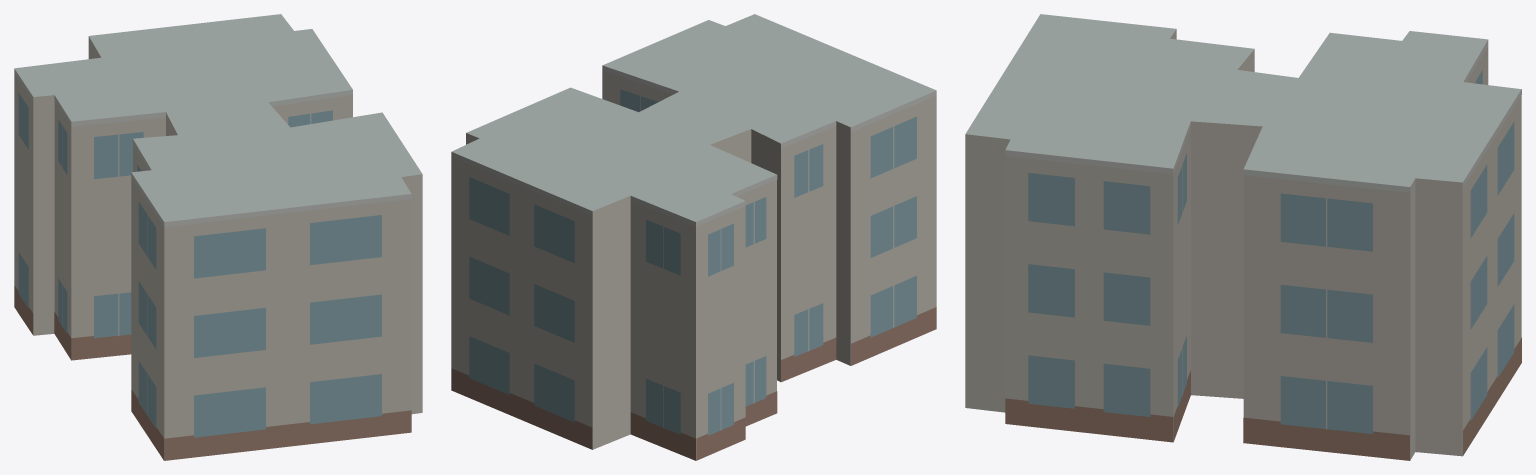
File: survey-upis-33028456.glb
3 views of the same model, side by side, from view 1: azimuth 30°, elevation 25°; view 2: azimuth 150°, elevation 25°; view 3: azimuth 270°, elevation 25° (orthographic). The views are drawn at different scales.
Visible parts, largest first — view 1: survey-upis-33028456.tmp; view 2: survey-upis-33028456.tmp; view 3: survey-upis-33028456.tmp.
Part boxes in pixels (x1,y1,x2,y2): survey-upis-33028456.tmp: (14,14,422,460); survey-upis-33028456.tmp: (451,14,936,460); survey-upis-33028456.tmp: (965,14,1521,460).
Bounding box in the file's own units: 15.81 × 11.65 × 21.47.
